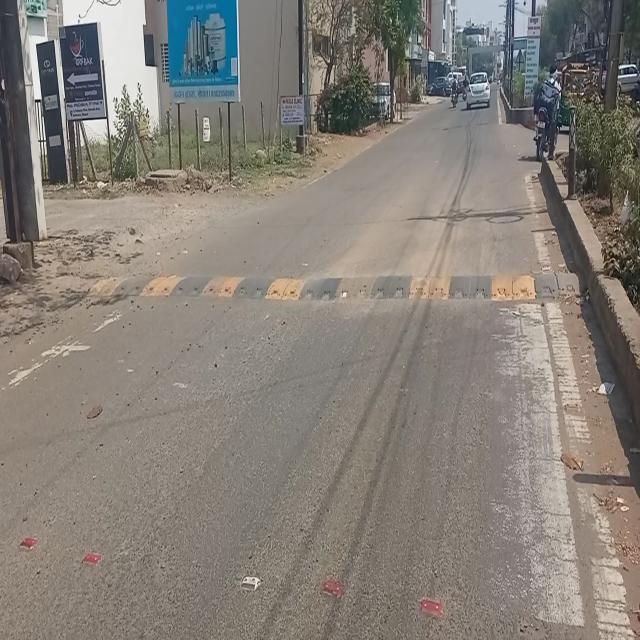Marked Bump: (110, 264, 560, 318)
